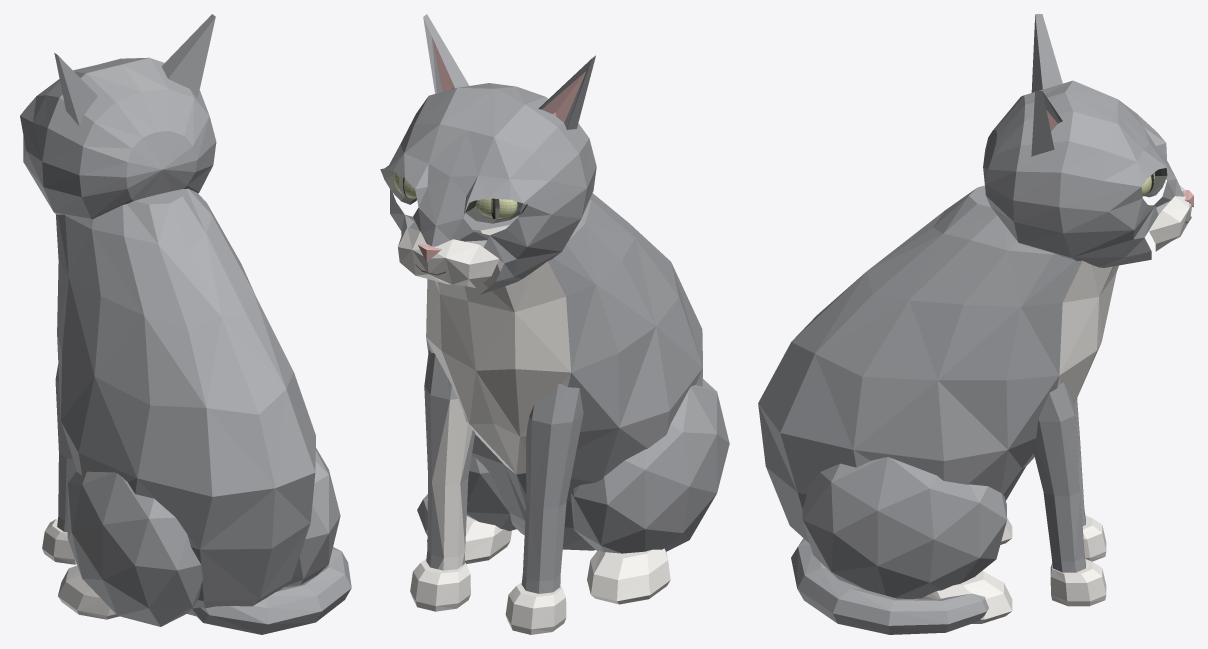
File: cat_v7.glb
3 renders of one model, left to right at view 1: azimuth 30°, elevation 25°; view 2: azimuth 150°, elevation 25°; view 3: azimuth 270°, elevation 25°, orthographic. The views are drawn at different scales.
Visible parts, largest first — view 1: Rounded_Torso_Graphite, Sculpted_Head_Graphite, Haunch_Right_Graphite, Haunch_Right_GraphiteMid, Rounded_Torso_GraphiteLight, Haunch_Right_GraphiteLight, Sculpted_Head_GraphiteMid, Curled_tail_Graphite, Haunch_Left_GraphiteMid, Curled_tail_GraphiteMid, Sculpted_Head_GraphiteLight, Hind_paw_Right_Ivory (+9 smaller); view 2: Rounded_Torso_Graphite, Sculpted_Head_Graphite, Rounded_Torso_Ivory, Haunch_Right_Graphite, Foreleg_Right_Graphite, Haunch_Right_GraphiteMid, Hind_paw_Right_Ivory, Sculpted_Head_Ivory, Sculpted_Head_GraphiteMid, Foreleg_Left_Graphite_Inner_White, Front_paw_Right_Ivory, Front_paw_Left_Ivory (+17 smaller); view 3: Rounded_Torso_Graphite, Sculpted_Head_Graphite, Haunch_Left_Graphite, Haunch_Left_GraphiteMid, Rounded_Torso_Ivory, Curled_tail_Graphite, Foreleg_Left_Graphite, Rounded_Torso_GraphiteLight, Curled_tail_GraphiteMid, Front_paw_Left_Ivory, Sculpted_Head_GraphiteMid, Hind_paw_Left_Ivory (+9 smaller).
Boxes of the visible parts, box(x1,y1,x2,y2) form: Rounded_Torso_Graphite: box(55, 188, 315, 616); Sculpted_Head_Graphite: box(20, 57, 216, 219); Haunch_Right_Graphite: box(67, 471, 202, 626); Haunch_Right_GraphiteMid: box(67, 484, 202, 625); Rounded_Torso_GraphiteLight: box(135, 203, 212, 549); Haunch_Right_GraphiteLight: box(72, 472, 191, 626); Sculpted_Head_GraphiteMid: box(24, 89, 208, 211); Curled_tail_Graphite: box(191, 547, 351, 634); Haunch_Left_GraphiteMid: box(283, 450, 340, 587); Curled_tail_GraphiteMid: box(253, 563, 351, 624); Sculpted_Head_GraphiteLight: box(33, 64, 167, 161); Hind_paw_Right_Ivory: box(58, 565, 119, 619); Rounded_Torso_Graphite: box(426, 193, 702, 550); Sculpted_Head_Graphite: box(386, 83, 596, 294); Rounded_Torso_Ivory: box(426, 225, 571, 474); Haunch_Right_Graphite: box(571, 378, 717, 553); Foreleg_Right_Graphite: box(523, 384, 583, 593); Haunch_Right_GraphiteMid: box(574, 393, 729, 551); Hind_paw_Right_Ivory: box(587, 548, 670, 604); Sculpted_Head_Ivory: box(398, 227, 499, 288); Sculpted_Head_GraphiteMid: box(390, 123, 589, 251); Foreleg_Left_Graphite_Inner_White: box(432, 399, 472, 570); Front_paw_Right_Ivory: box(505, 582, 566, 634); Front_paw_Left_Ivory: box(410, 559, 470, 611); Rounded_Torso_Graphite: box(758, 185, 1082, 543); Sculpted_Head_Graphite: box(983, 80, 1183, 267); Haunch_Left_Graphite: box(803, 457, 1006, 598); Haunch_Left_GraphiteMid: box(802, 457, 1006, 589); Rounded_Torso_Ivory: box(1023, 261, 1118, 467); Curled_tail_Graphite: box(797, 540, 988, 634); Foreleg_Left_Graphite: box(1038, 382, 1085, 572); Rounded_Torso_GraphiteLight: box(933, 189, 1052, 306); Curled_tail_GraphiteMid: box(791, 538, 985, 625); Front_paw_Left_Ivory: box(1050, 559, 1106, 606); Sculpted_Head_GraphiteMid: box(983, 97, 1154, 257); Hind_paw_Left_Ivory: box(917, 571, 1012, 623).
Size of the model in its own units: 0.0762 by 0.15 by 0.1135.
